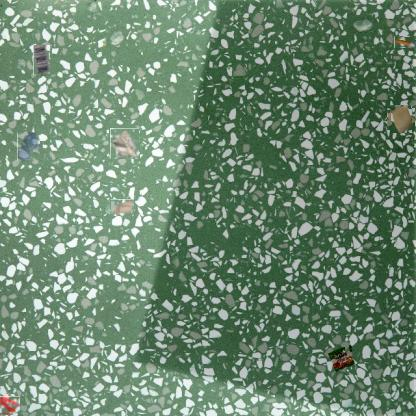dirty: (326, 344, 356, 374), (110, 128, 139, 158), (388, 106, 414, 132), (33, 46, 50, 76), (110, 199, 134, 216), (394, 36, 415, 48)
liquid: (17, 133, 40, 161), (0, 394, 19, 414)
